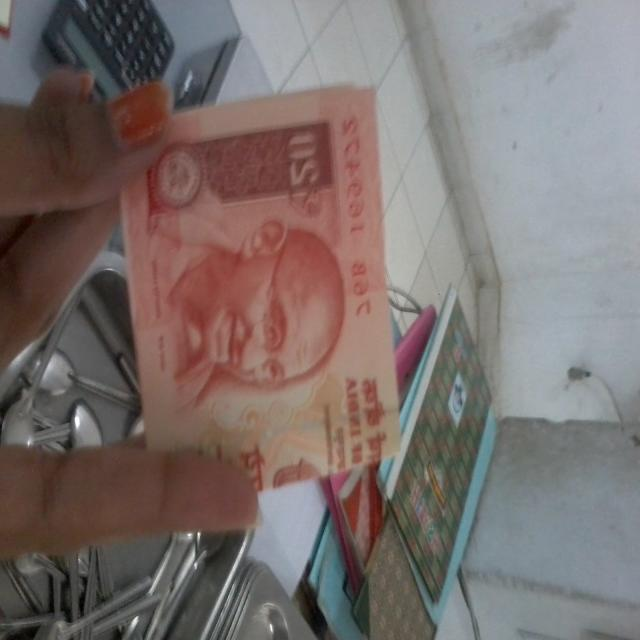20rs: (117, 77, 391, 500)
